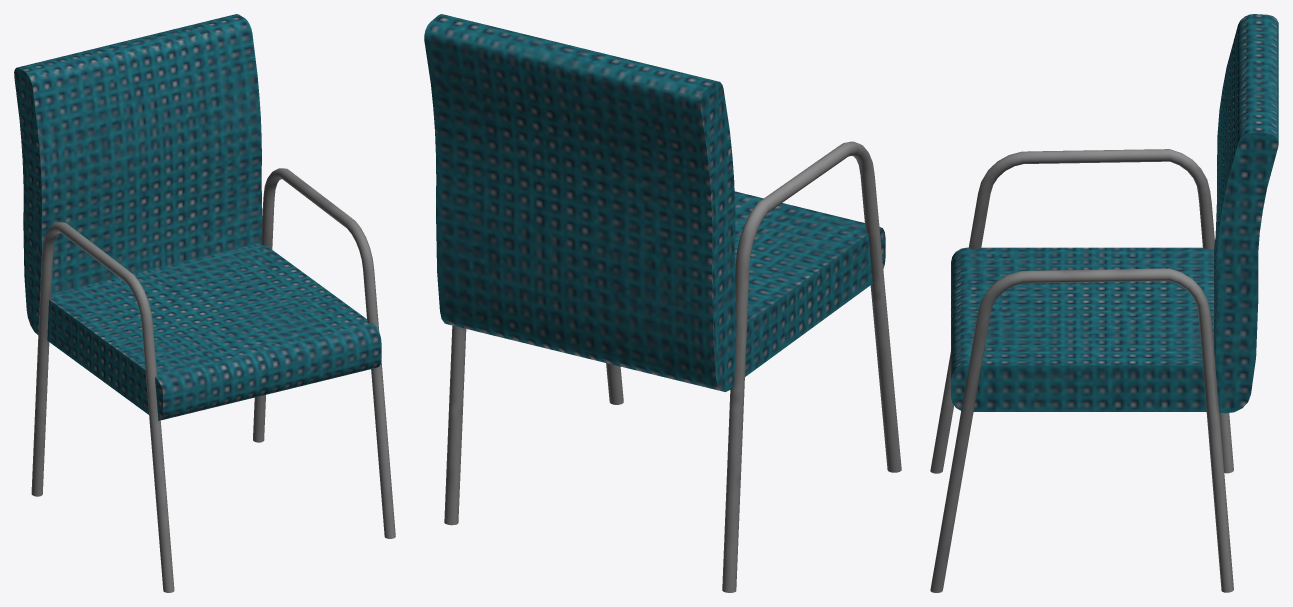
The model's file is hospital_chair.glb.
3 views of the same model, side by side, from view 1: azimuth 30°, elevation 25°; view 2: azimuth 150°, elevation 25°; view 3: azimuth 270°, elevation 25° (orthographic). The views are drawn at different scales.
Visible parts, largest first — view 1: Chair; view 2: Chair; view 3: Chair.
Part boxes in pixels (x1,y1,x2,y2): Chair: [14, 14, 395, 592]; Chair: [424, 14, 901, 592]; Chair: [930, 14, 1278, 592].
Bounding box in the file's own units: 0.8173 × 1.4 × 0.9656.
1 material, 1 textured.
